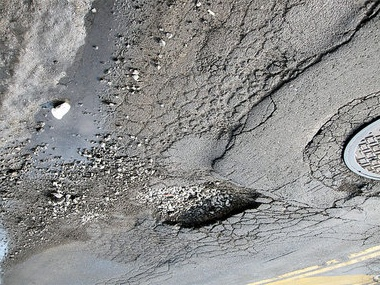pothole: (140, 176, 270, 234)
